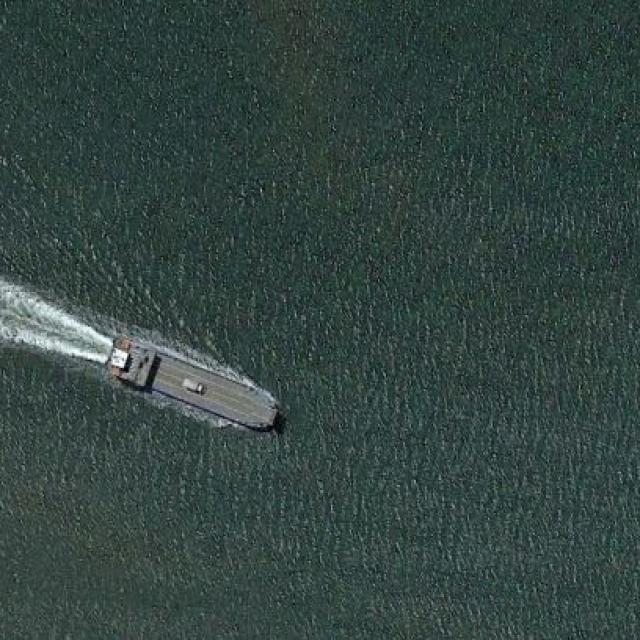ship: (105, 333, 284, 432)
